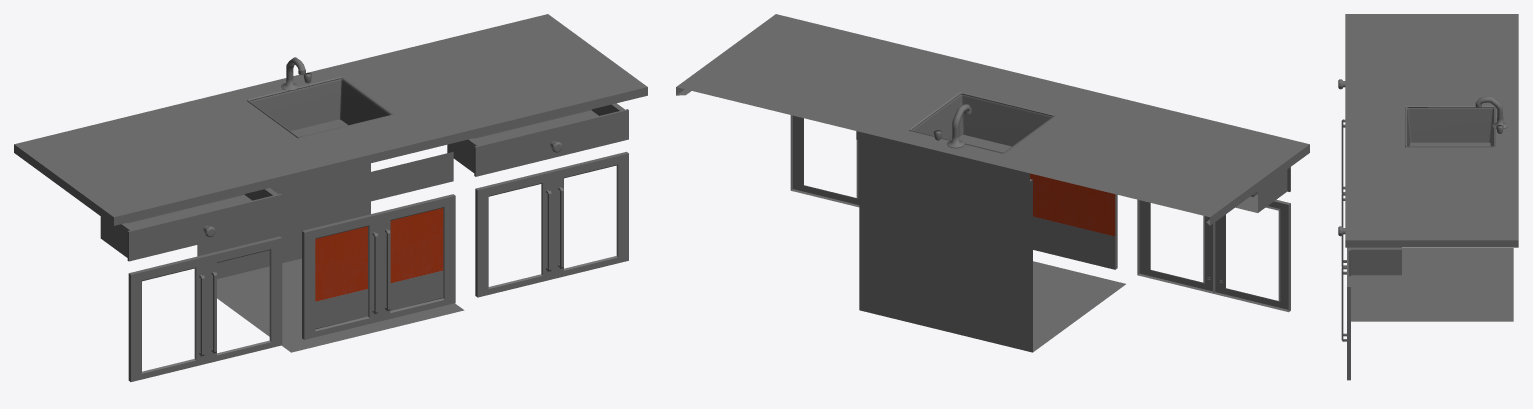
Rendered from DrawersNSink.fbx.
The picture shows the model from 3 angles, left to right: view 1: azimuth 30°, elevation 25°; view 2: azimuth 150°, elevation 25°; view 3: azimuth 270°, elevation 25°; orthographic projection. The views are drawn at different scales.
Visible parts, largest first — view 1: KitchenCounterModularB_CounterCabinetDoor_Left_CounterCabine; view 2: KitchenCounterModularB_CounterCabinetDoor_Left_CounterCabine; view 3: KitchenCounterModularB_CounterCabinetDoor_Left_CounterCabine.
Part boxes in pixels (<box>): KitchenCounterModularB_CounterCabinetDoor_Left_CounterCabine: <box>14,14,647,381</box>; KitchenCounterModularB_CounterCabinetDoor_Left_CounterCabine: <box>676,14,1309,352</box>; KitchenCounterModularB_CounterCabinetDoor_Left_CounterCabine: <box>1338,14,1518,380</box>.
Size of the model in its own units: 3.29 by 1.27 by 1.11.
